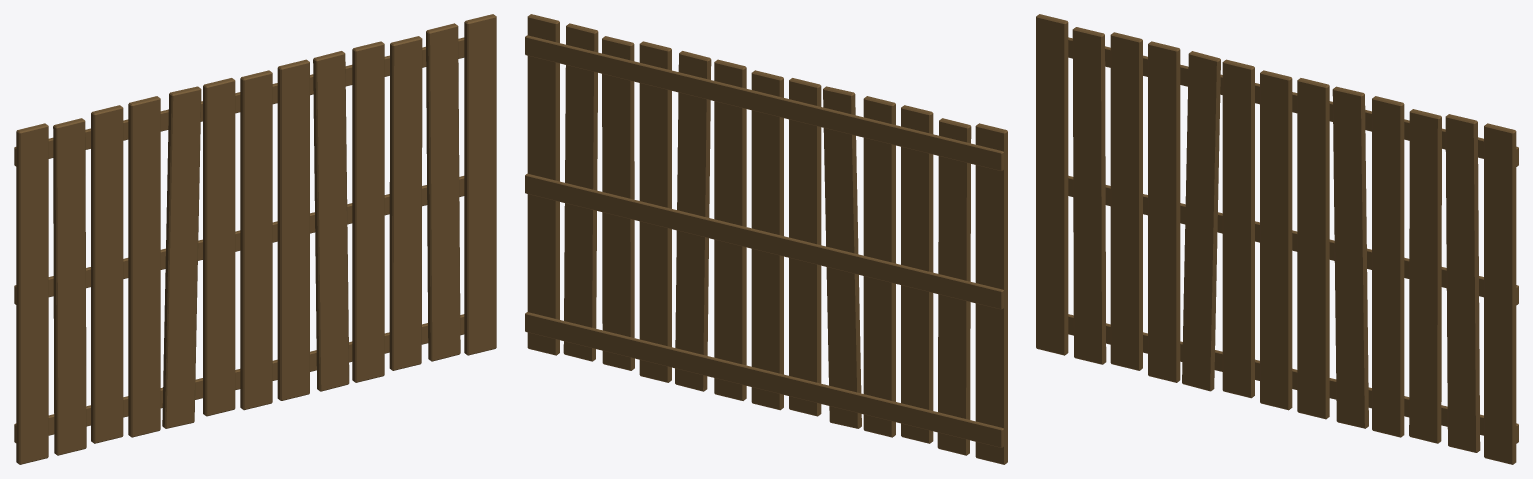
The model's file is WallWood.FBX.
3 views of the same model, side by side, from view 1: azimuth 30°, elevation 25°; view 2: azimuth 150°, elevation 25°; view 3: azimuth 330°, elevation 25° (orthographic).
Parts seen in each view (by area): view 1: Wall_Wood, Wall_Wood2, Wall_Wood4, Wall_Wood3; view 2: Wall_Wood, Wall_Wood3, Wall_Wood4, Wall_Wood2; view 3: Wall_Wood, Wall_Wood3, Wall_Wood4, Wall_Wood2.
Boxes of the visible parts, left/top/right/bottom form: Wall_Wood: left=16, top=14, right=496, bottom=464; Wall_Wood2: left=14, top=37, right=464, bottom=166; Wall_Wood4: left=14, top=314, right=464, bottom=442; Wall_Wood3: left=14, top=176, right=464, bottom=304; Wall_Wood: left=527, top=14, right=1007, bottom=464; Wall_Wood3: left=525, top=173, right=1003, bottom=309; Wall_Wood4: left=525, top=312, right=1003, bottom=447; Wall_Wood2: left=525, top=35, right=1003, bottom=171; Wall_Wood: left=1036, top=14, right=1516, bottom=464; Wall_Wood3: left=1068, top=175, right=1518, bottom=305; Wall_Wood4: left=1068, top=314, right=1518, bottom=443; Wall_Wood2: left=1068, top=37, right=1518, bottom=166.
Size of the model in its own units: 3003 by 2003 by 65.63.
